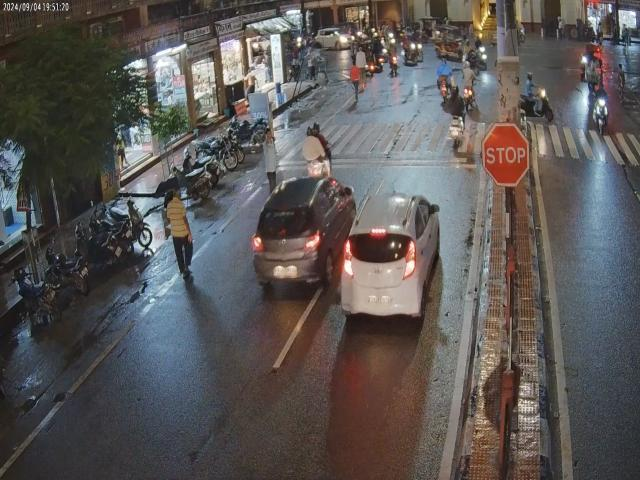car: (336, 188, 449, 326), (253, 176, 359, 298)
motorbike: (42, 248, 98, 293), (12, 266, 52, 324)
motorbike-rider: (436, 54, 454, 106), (461, 60, 477, 112)
scooty: (170, 145, 220, 204)
scooty-rider: (301, 124, 337, 177), (520, 73, 554, 120), (446, 86, 468, 152), (591, 80, 613, 139)
